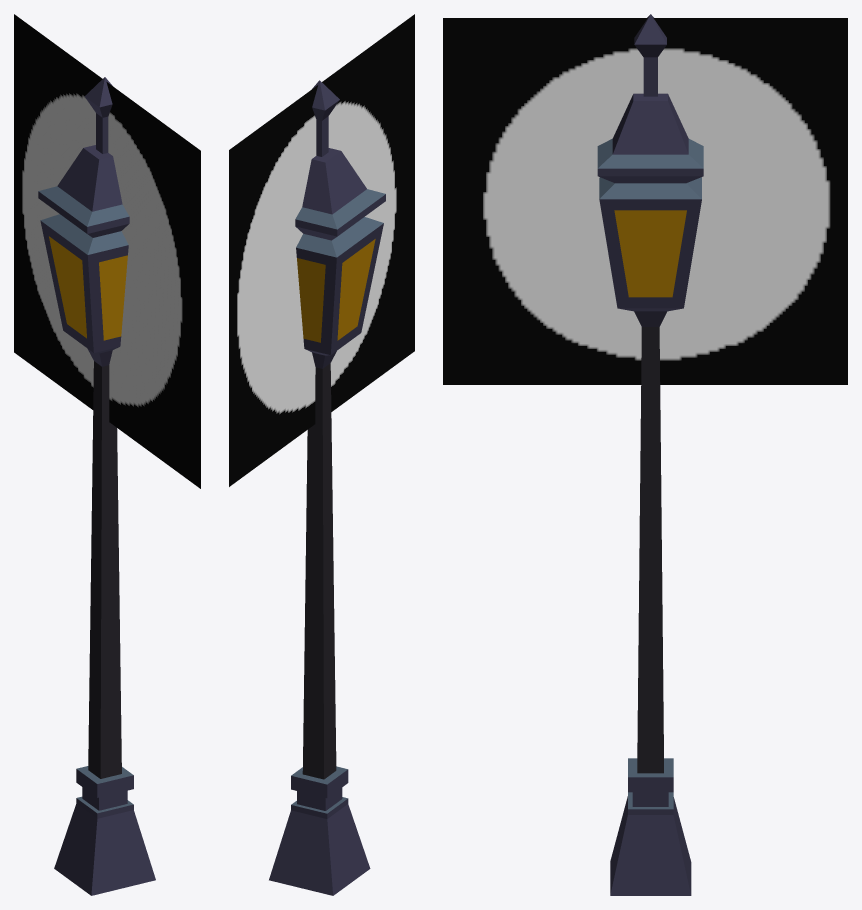
Rendered from Street Lamp.fbx.
3 renders of one model, left to right at view 1: azimuth 30°, elevation 25°; view 2: azimuth 150°, elevation 25°; view 3: azimuth 270°, elevation 25°, orthographic. The views are drawn at different scales.
Visible parts, largest first — view 1: Street Light Glow, Street Light; view 2: Street Light Glow, Street Light; view 3: Street Light Glow, Street Light.
Boxes of the visible parts, left/top/right/bottom form: Street Light Glow: left=14, top=14, right=200, bottom=488; Street Light: left=38, top=77, right=155, bottom=895; Street Light Glow: left=229, top=14, right=414, bottom=486; Street Light: left=269, top=80, right=385, bottom=895; Street Light Glow: left=443, top=18, right=847, bottom=384; Street Light: left=597, top=14, right=703, bottom=895.
Bounding box in the file's own units: 0.5233 × 4.71 × 2.
